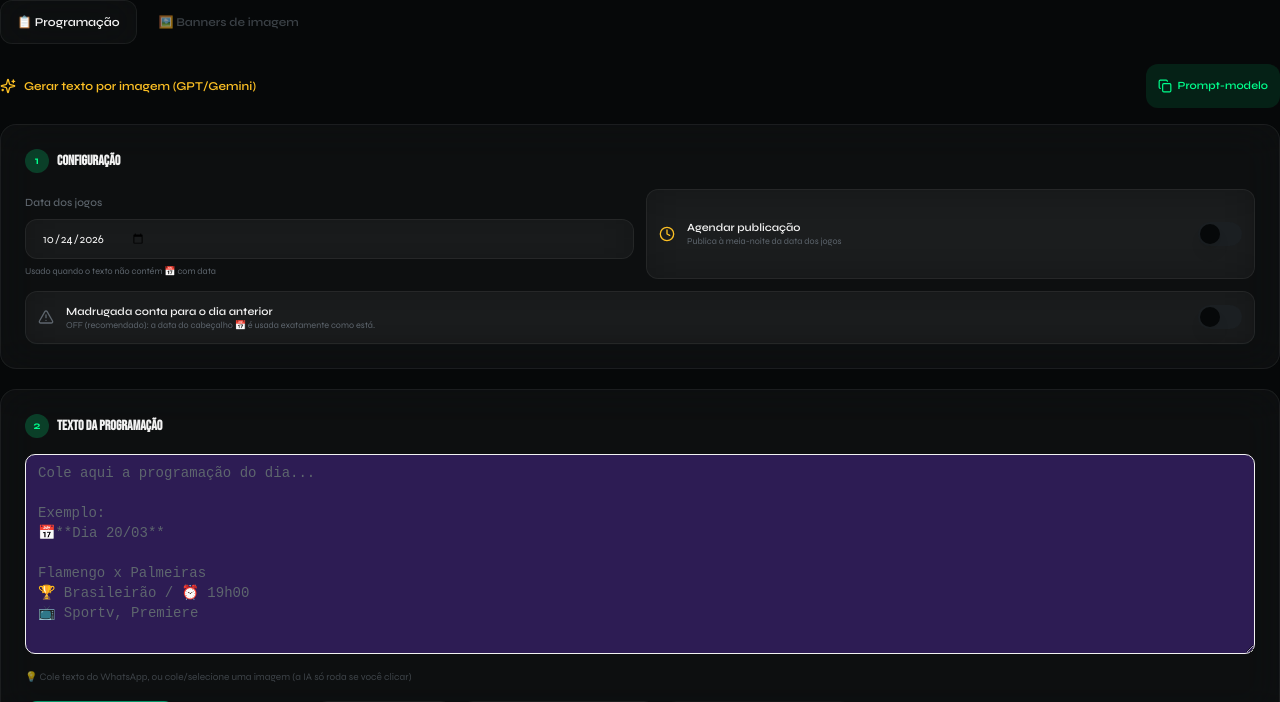
Test: AdminProgramacao — sections & categories › shows empty state with helper text
Click the tab "🖼️ Banners de imagem". click: (229, 22)
box: [142,0,315,44]
(page scrolled)
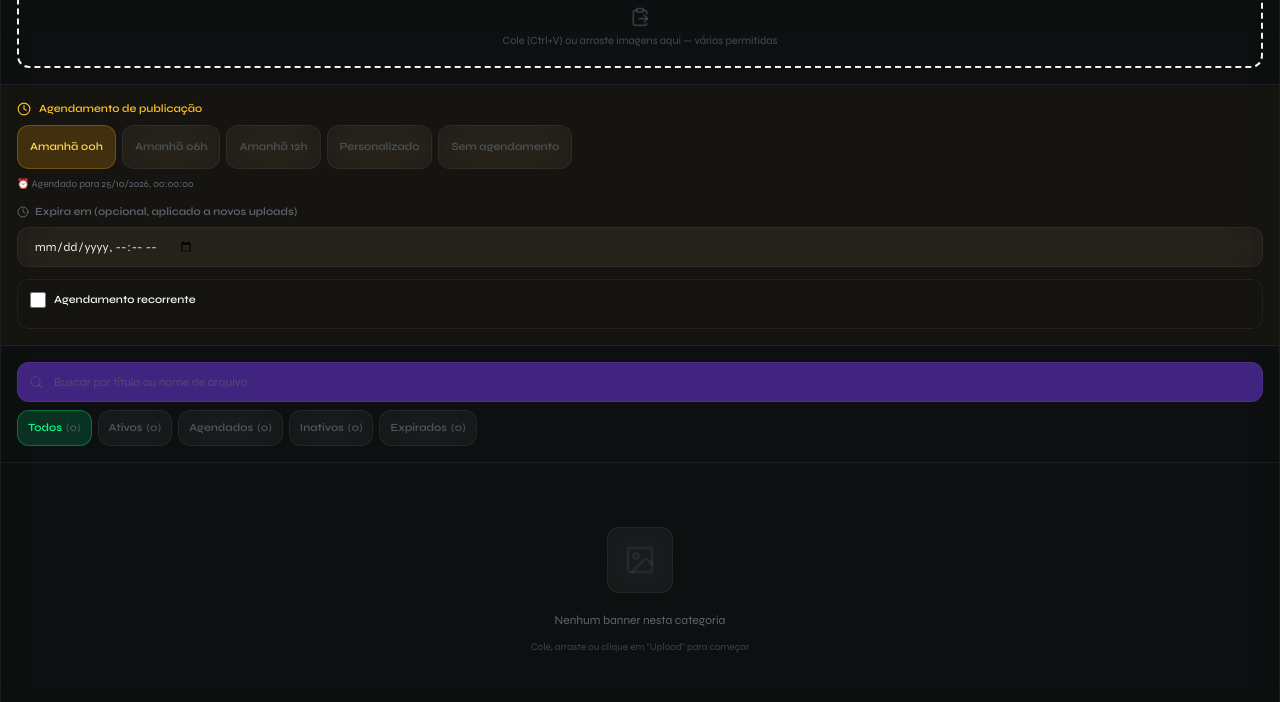
Result: the text "Nenhum banner nesta categoria" is shown at [555,613,725,627]
Result: the text "Cole, arraste ou clique em \"Upload\" para começar" is shown at [531,641,749,653]
